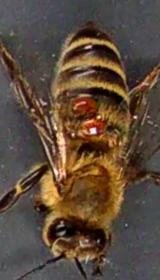varroa_mite: (74, 116, 114, 141), (67, 94, 103, 118)
